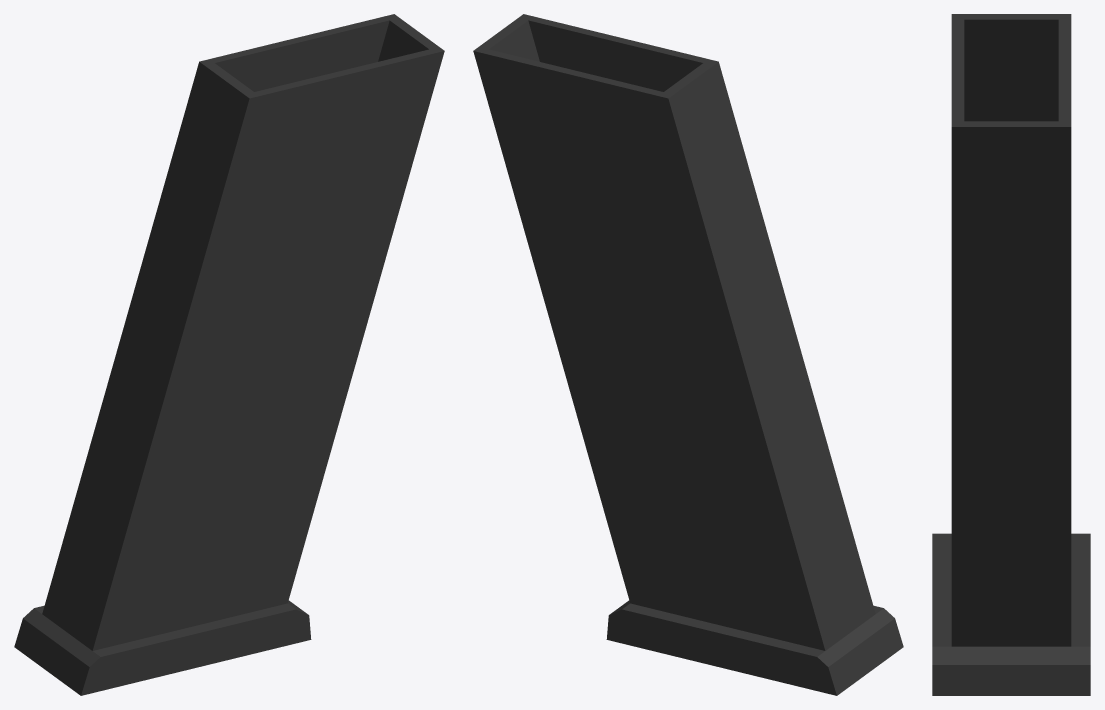
The model's file is Pistol4_02_4.fbx.
3 renders of one model, left to right at view 1: azimuth 30°, elevation 25°; view 2: azimuth 150°, elevation 25°; view 3: azimuth 270°, elevation 25°, orthographic. The views are drawn at different scales.
Visible parts, largest first — view 1: Pistol4_02_4; view 2: Pistol4_02_4; view 3: Pistol4_02_4.
Boxes of the visible parts, box(x1,y1,x2,y2) form: Pistol4_02_4: box(14, 14, 444, 695); Pistol4_02_4: box(473, 14, 903, 695); Pistol4_02_4: box(932, 14, 1090, 695).
Bounding box in the file's own units: 0.0778 × 0.1096 × 0.0242.
